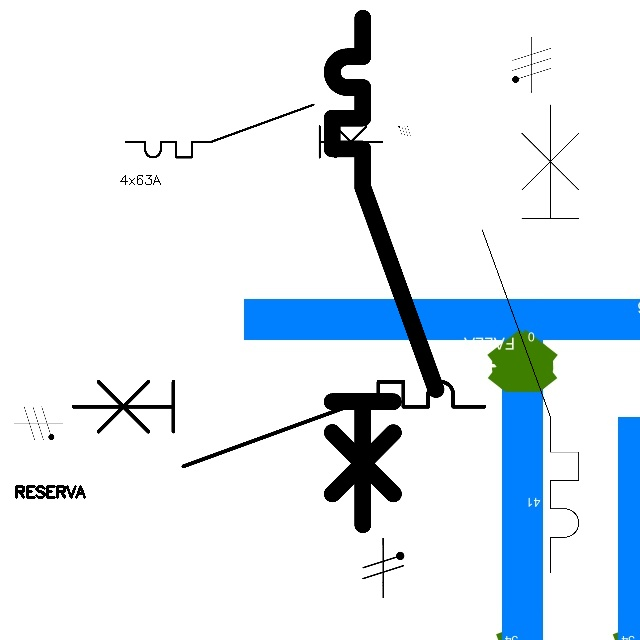interruptor_termomagnetico: (319, 5, 449, 537), (470, 92, 591, 585), (62, 371, 494, 476), (119, 98, 389, 164)
